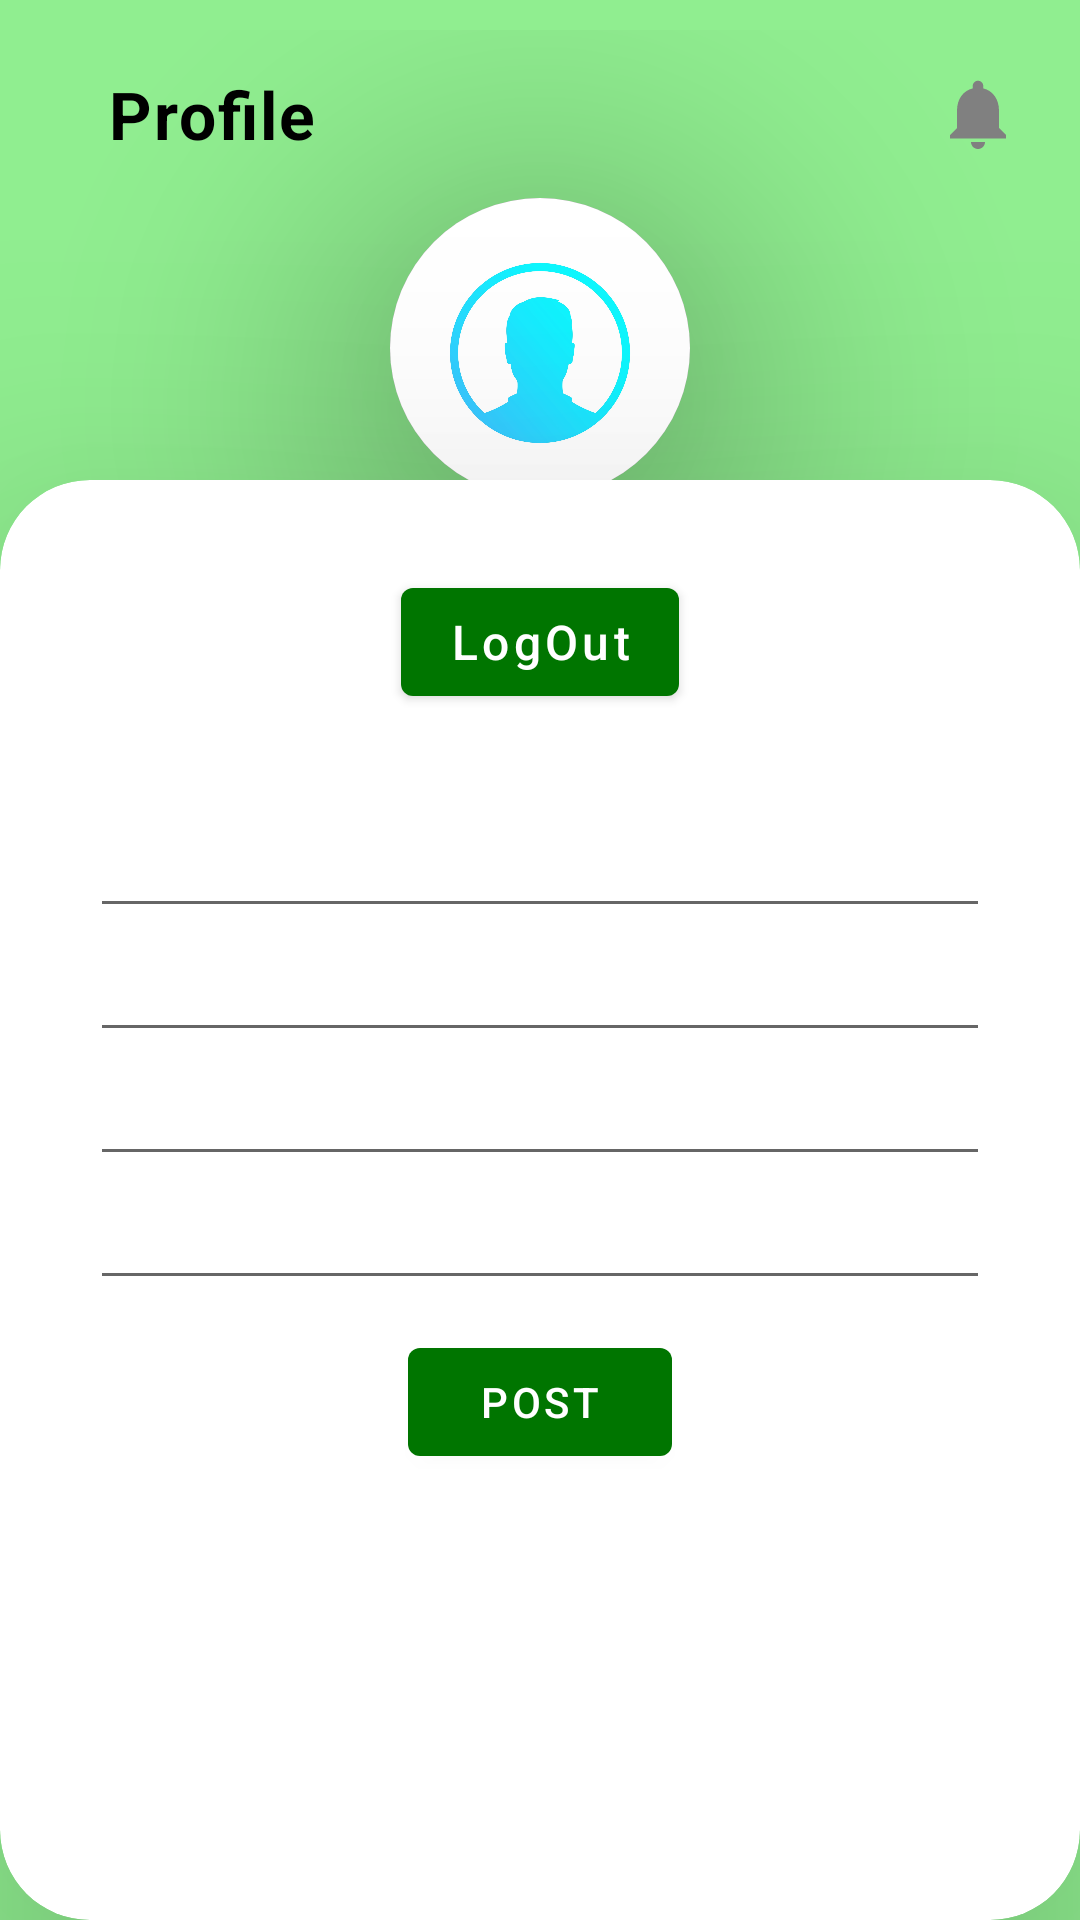

Where to tap for icons on this 1080*1920 app screen, as (x,y):
notifications: (978,114)
